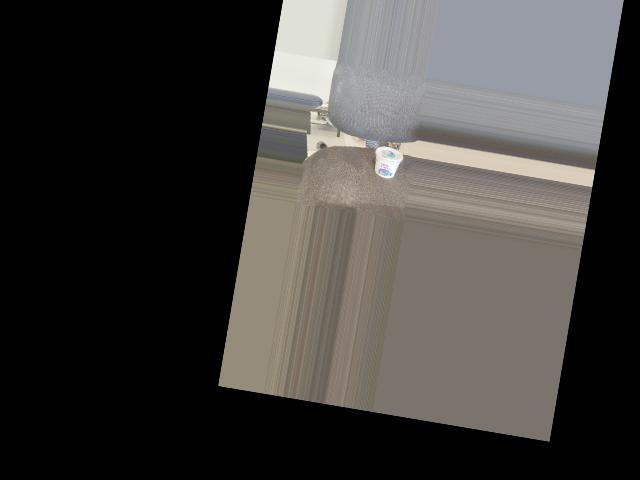cotage: (369, 144, 404, 181)
